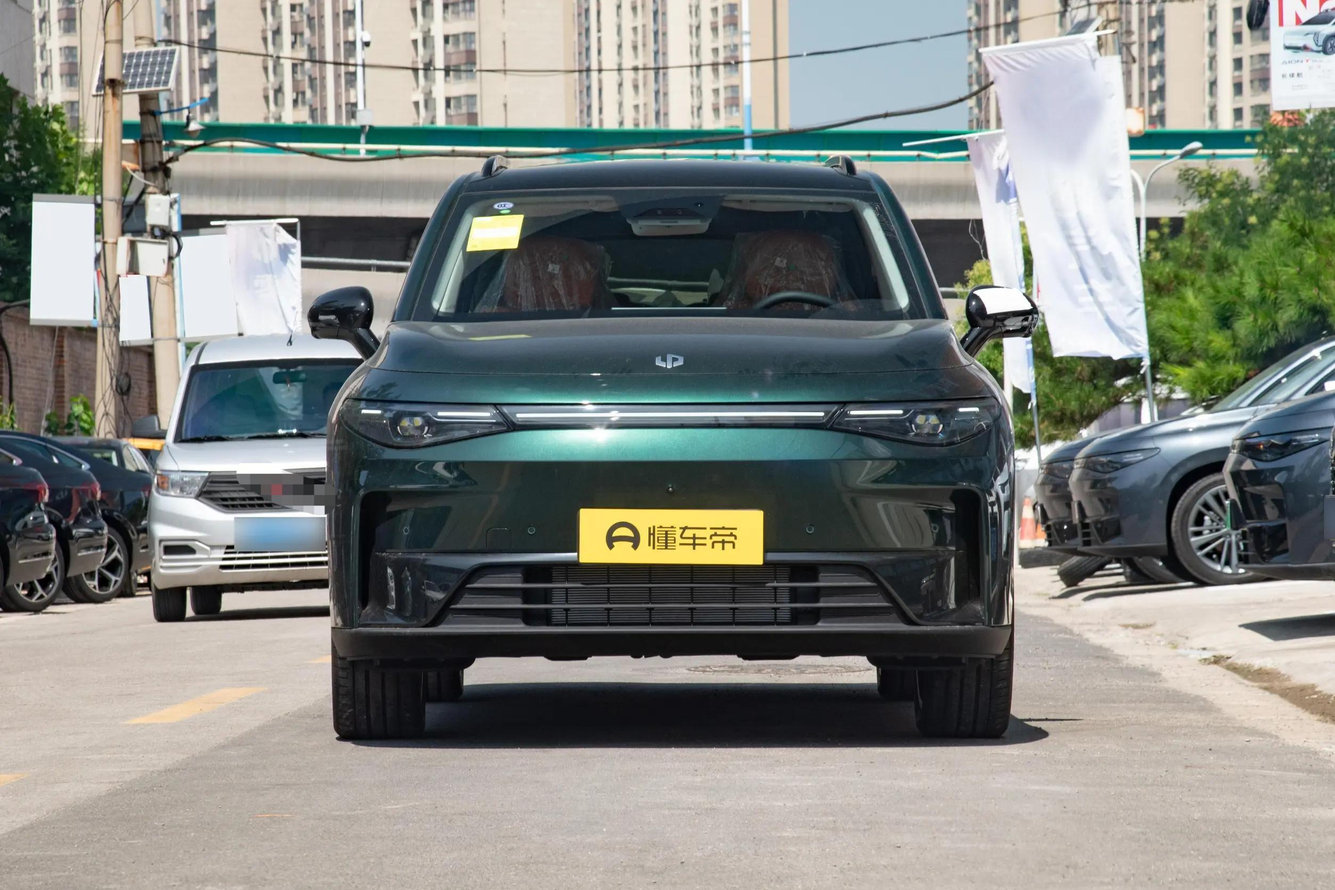LEAPMOTOR: (655, 351, 683, 370)
